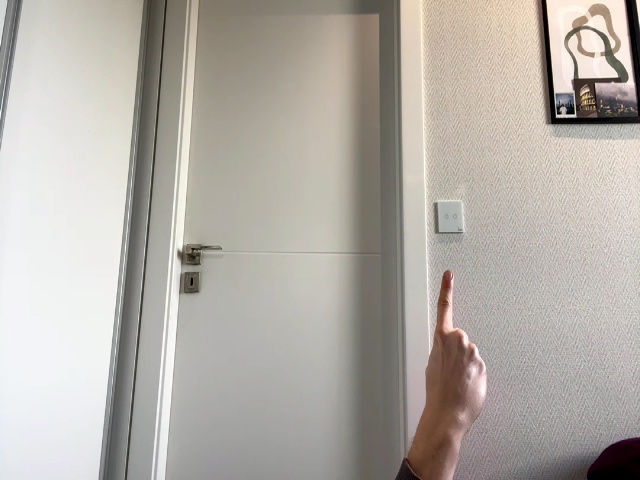D: (425, 270, 487, 434)
